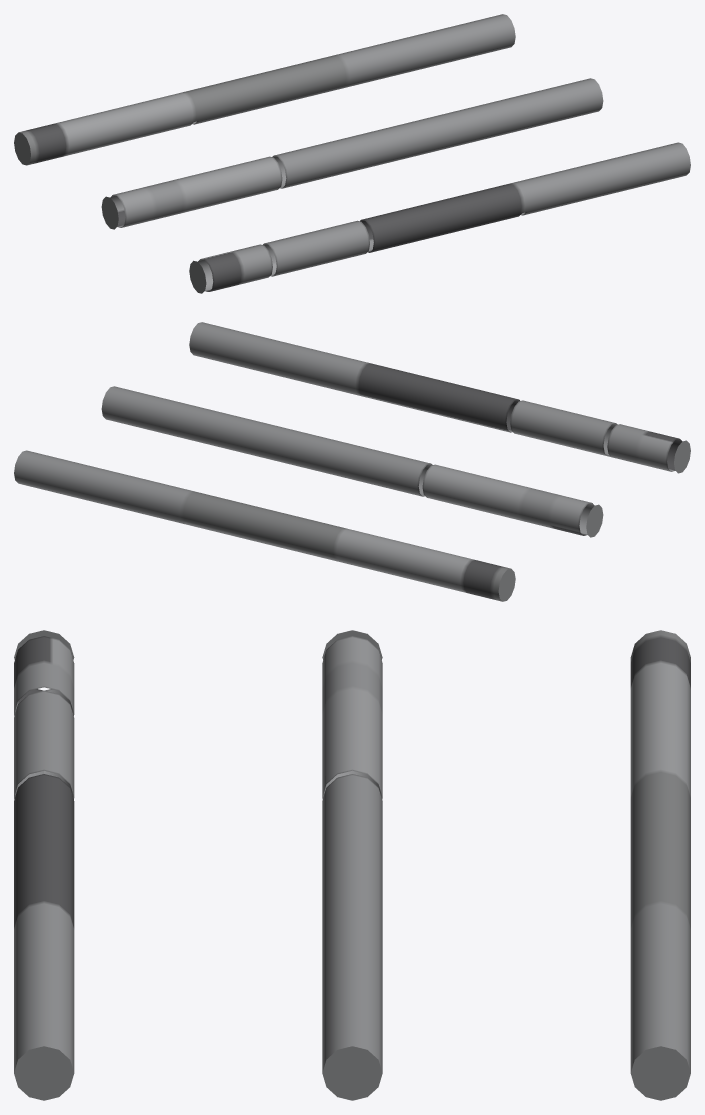
The picture shows the model from 3 angles, top to bottom: view 1: azimuth 30°, elevation 25°; view 2: azimuth 150°, elevation 25°; view 3: azimuth 270°, elevation 25°; orthographic projection. The views are drawn at different scales.
Size of the model in its own units: 0.98 by 0.06 by 0.674.
